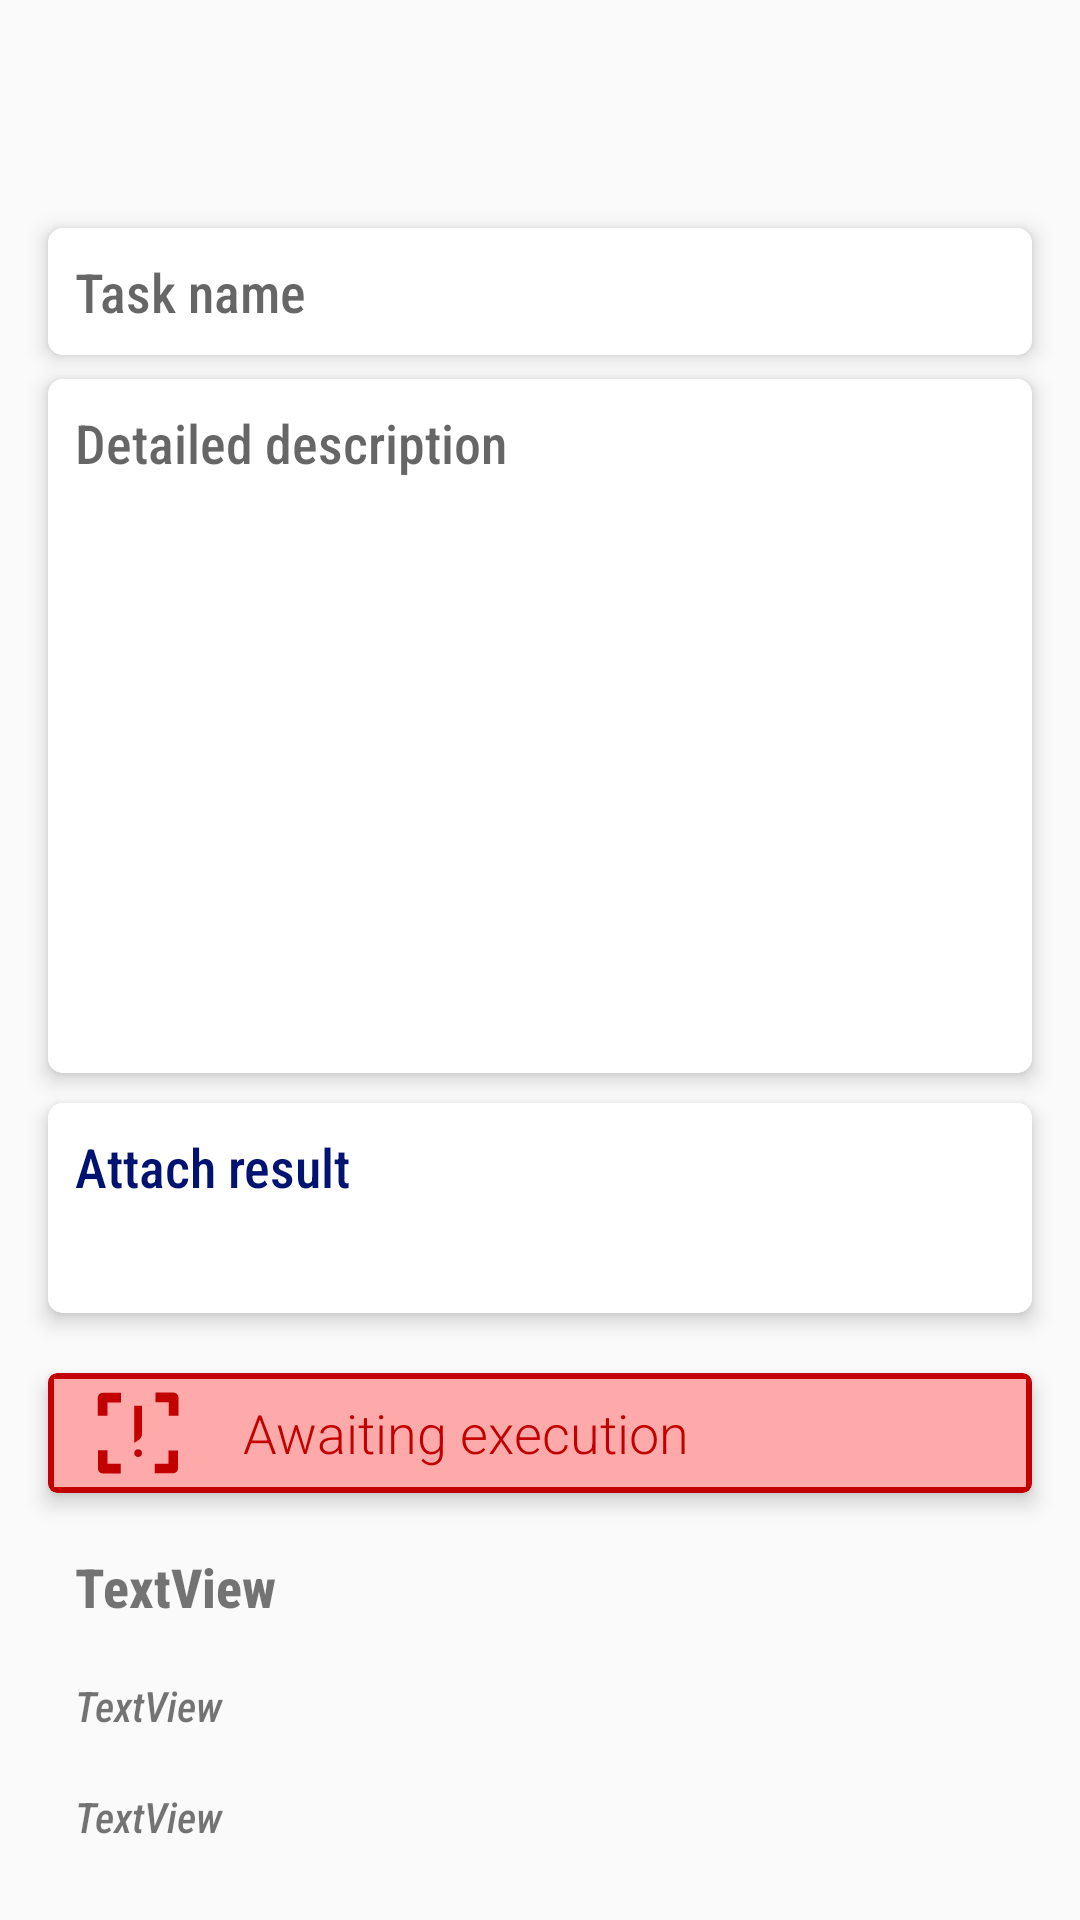

Point at icon controls on the screen. Image size 1080px×1920px, points as point (x, y).
status: point (138, 1433)
